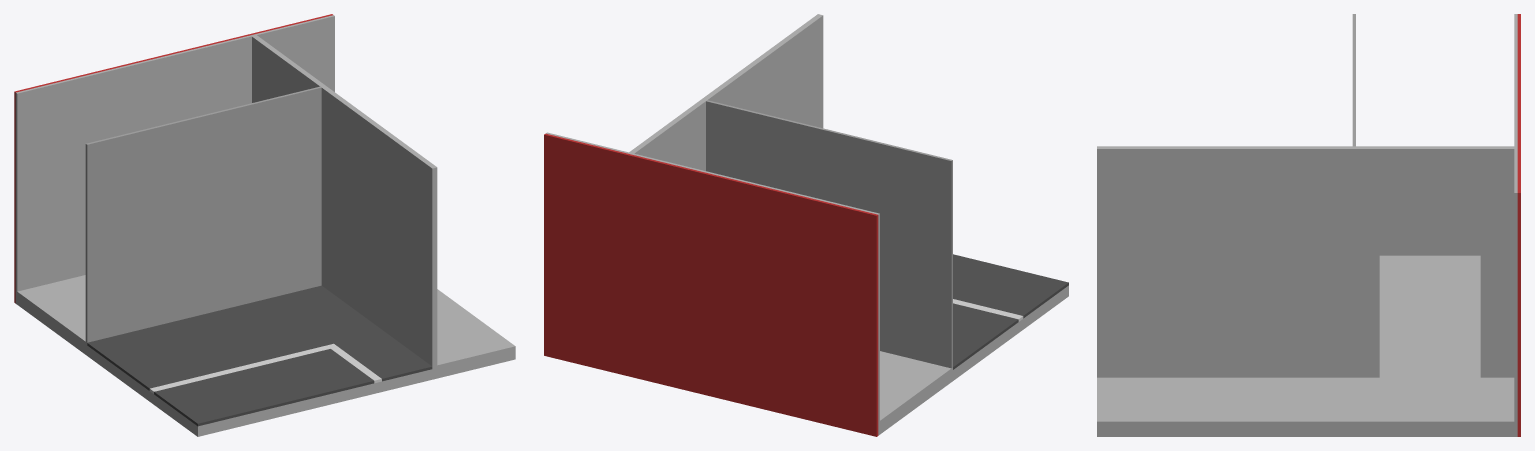
Rendered from 4x2 first-2.obj.
The picture shows the model from 3 angles, left to right: view 1: azimuth 30°, elevation 25°; view 2: azimuth 150°, elevation 25°; view 3: azimuth 270°, elevation 25°; orthographic projection. The views are drawn at different scales.
Visible parts, largest first — view 1: 4x2 first-2; view 2: 4x2 first-2; view 3: 4x2 first-2.
Boxes of the visible parts, box(x1,y1,x2,y2) form: 4x2 first-2: box(14, 14, 515, 436); 4x2 first-2: box(544, 14, 1068, 436); 4x2 first-2: box(1097, 14, 1520, 436).
Size of the model in its own units: 126 by 80 by 126.
Materials: 1 (1 with a texture image).
